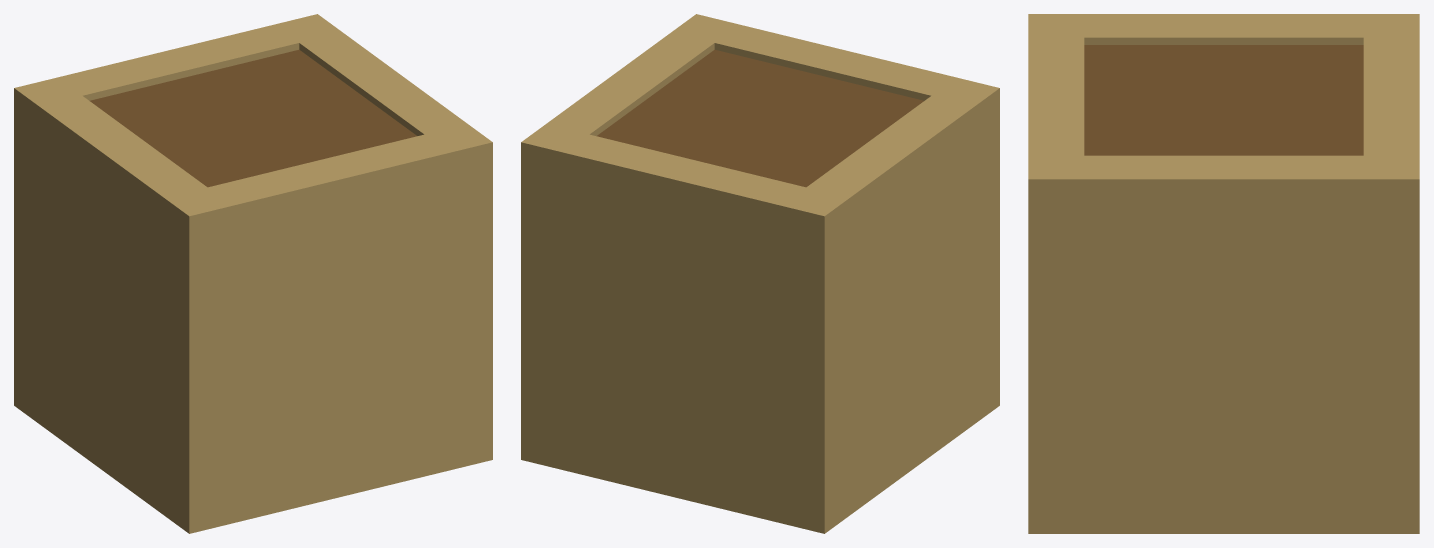
The picture shows the model from 3 angles, left to right: view 1: azimuth 30°, elevation 25°; view 2: azimuth 150°, elevation 25°; view 3: azimuth 270°, elevation 25°; orthographic projection. The views are drawn at different scales.
Parts seen in each view (by area): view 1: pCube39, pCube40; view 2: pCube39, pCube40; view 3: pCube39, pCube40.
Boxes of the visible parts, x1,y1,x2,y2 form: pCube39: (14,14,492,533); pCube40: (90,49,417,187); pCube39: (521,14,999,533); pCube40: (596,49,923,187); pCube39: (1028,14,1419,533); pCube40: (1084,45,1363,155).
Bounding box in the file's own units: 1 × 1 × 1.
